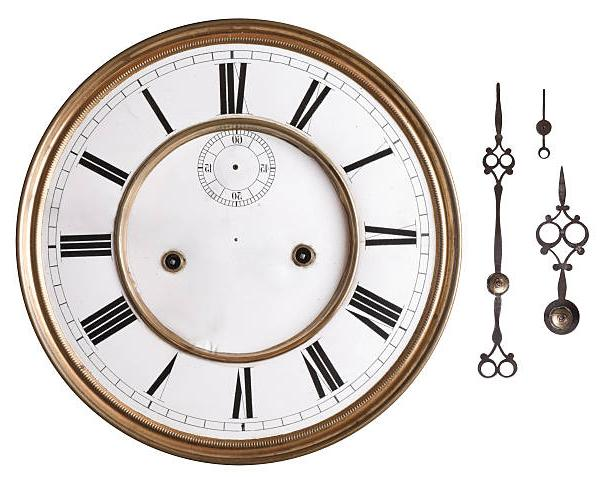clock: (13, 6, 465, 466)
